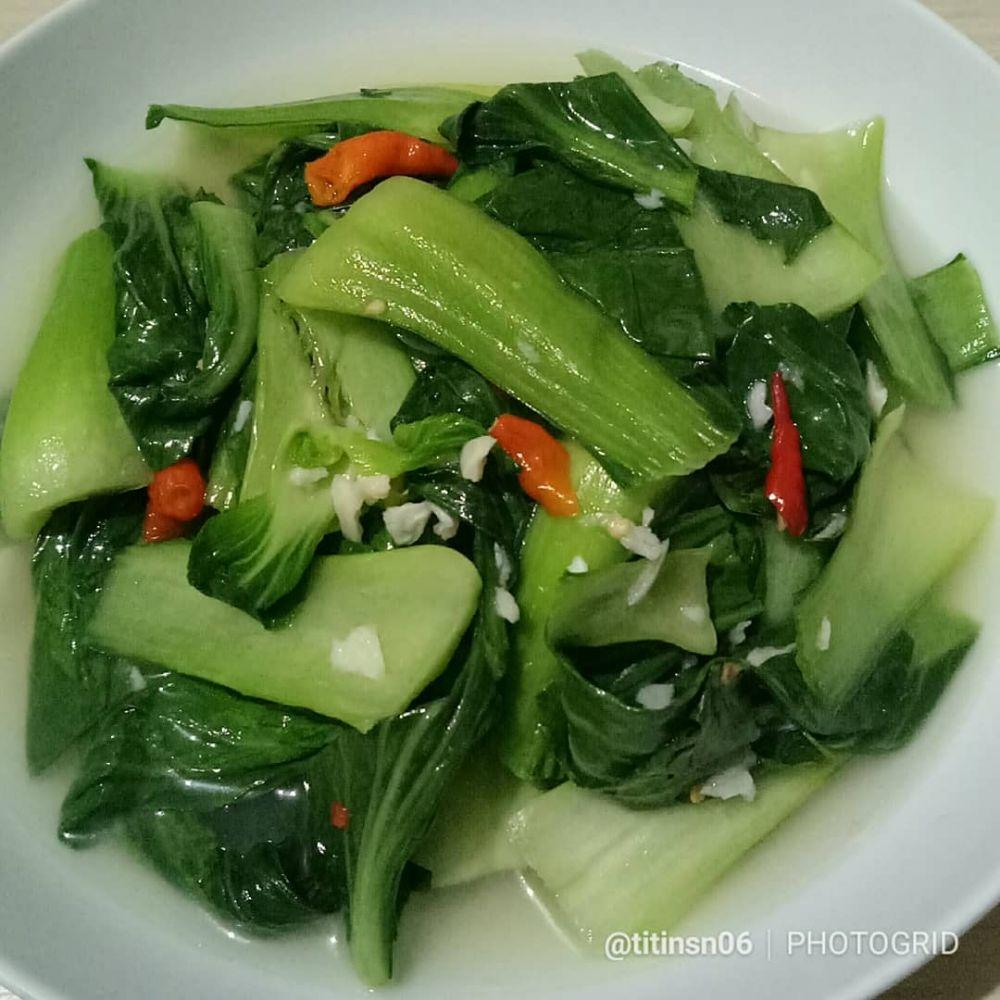buah_sayur_lainnya: (153, 111, 858, 845)
